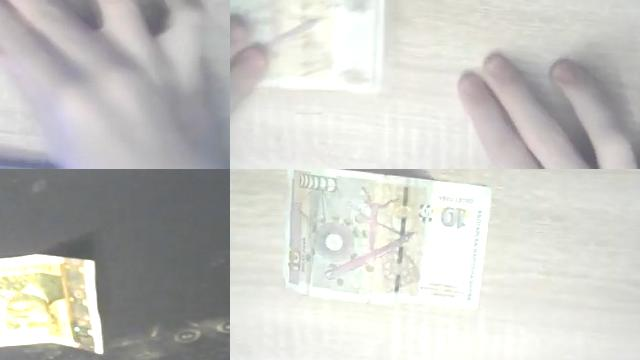10leva: (230, 0, 388, 94), (0, 252, 105, 351)
